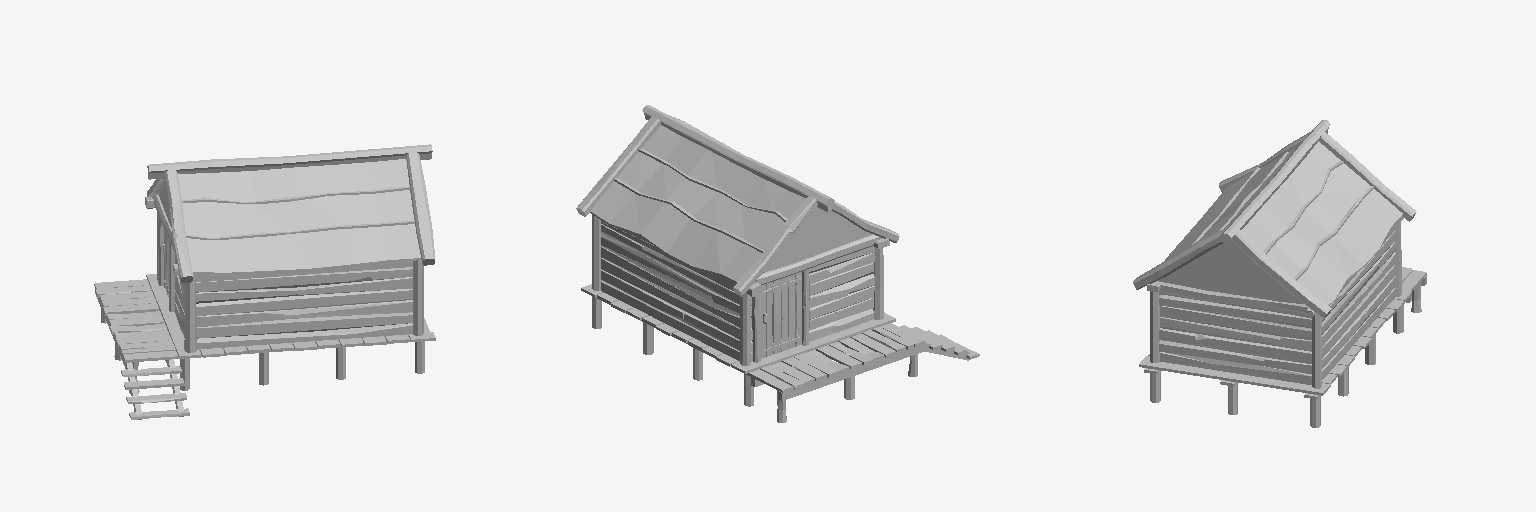
Rendered from Building_3_Wall_OFF.obj.
3 renders of one model, left to right at view 1: azimuth 30°, elevation 25°; view 2: azimuth 150°, elevation 25°; view 3: azimuth 270°, elevation 25°, orthographic.
Visible parts, largest first — view 1: Building_3_Wall_OFF; view 2: Building_3_Wall_OFF; view 3: Building_3_Wall_OFF.
Boxes of the visible parts, x1,y1,x2,y2 form: Building_3_Wall_OFF: [94, 144, 435, 419]; Building_3_Wall_OFF: [576, 105, 979, 422]; Building_3_Wall_OFF: [1133, 120, 1426, 427].
Size of the model in its own units: 9.51 by 5.14 by 7.17.